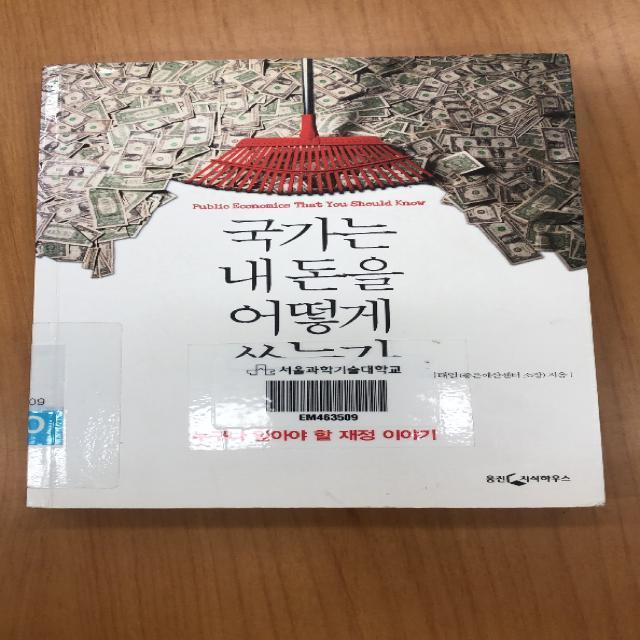Wornout: (533, 495, 608, 510), (39, 61, 83, 76)
